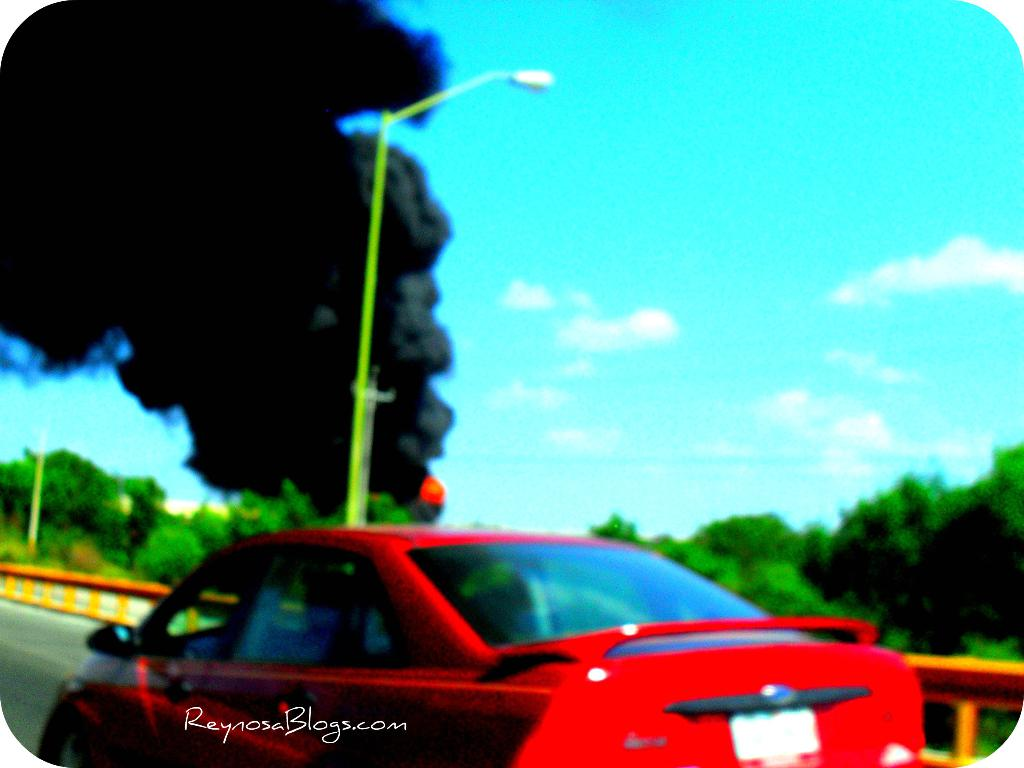Car: (36, 529, 924, 767)
